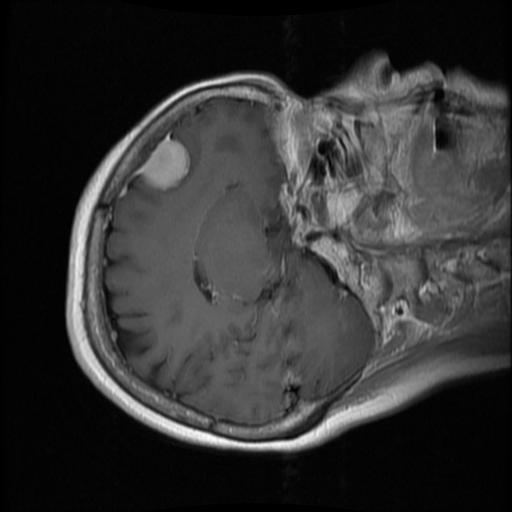meningioma: (138, 138, 190, 190)
